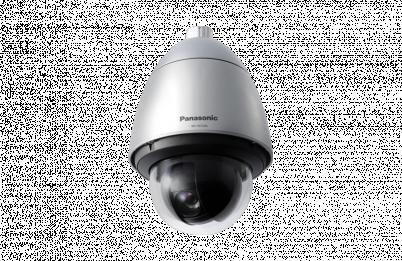maru: (127, 26, 273, 236)
